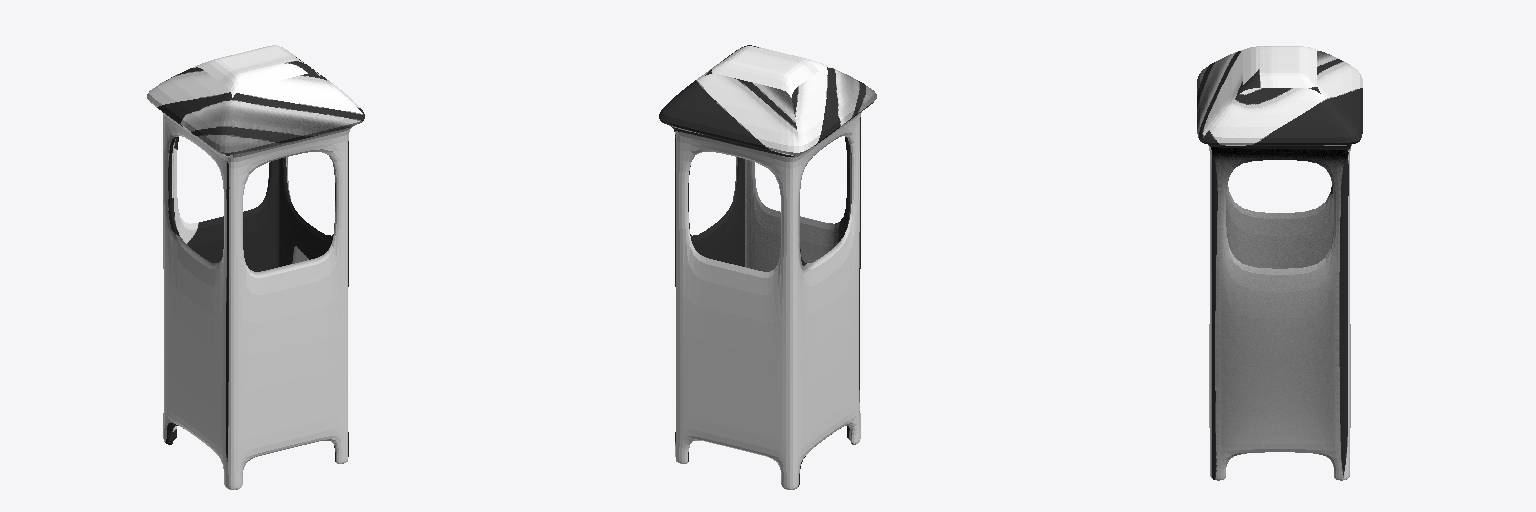
3 renders of one model, left to right at view 1: azimuth 30°, elevation 25°; view 2: azimuth 150°, elevation 25°; view 3: azimuth 270°, elevation 25°, orthographic.
Visible parts, largest first — view 1: Cube; view 2: Cube; view 3: Cube.
Part boxes in pixels (bbox=[...]): Cube: bbox=[147, 45, 364, 489]; Cube: bbox=[659, 45, 876, 489]; Cube: bbox=[1197, 46, 1362, 480].
Bounding box in the file's own units: 21.62 × 54.63 × 20.88.
1 materials, 1 textured.